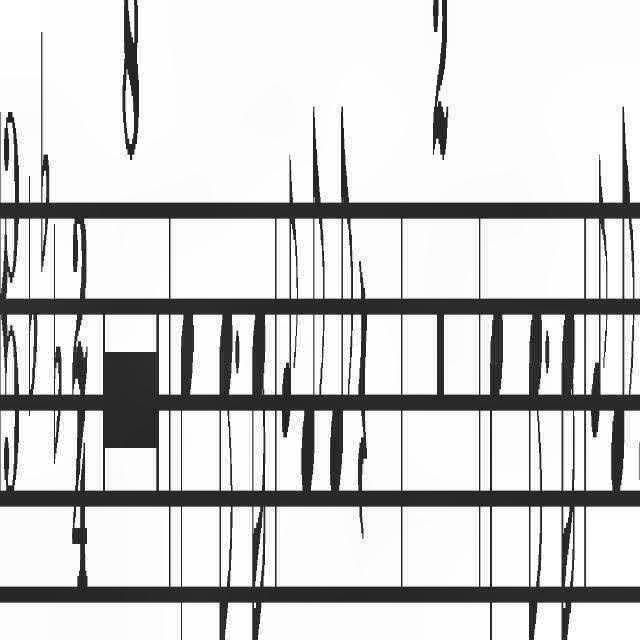Bemol: (24, 164, 40, 448), (34, 21, 50, 297), (51, 200, 64, 474)
Eighth-note: (610, 74, 636, 554), (327, 110, 358, 510), (299, 110, 327, 542), (218, 260, 234, 640), (526, 288, 542, 640), (634, 37, 640, 555)
Quarter-note: (480, 266, 508, 640), (176, 282, 198, 640)
Quarter-rest: (355, 252, 373, 546)
Sixteenth-note: (558, 250, 584, 640), (246, 260, 270, 640)
